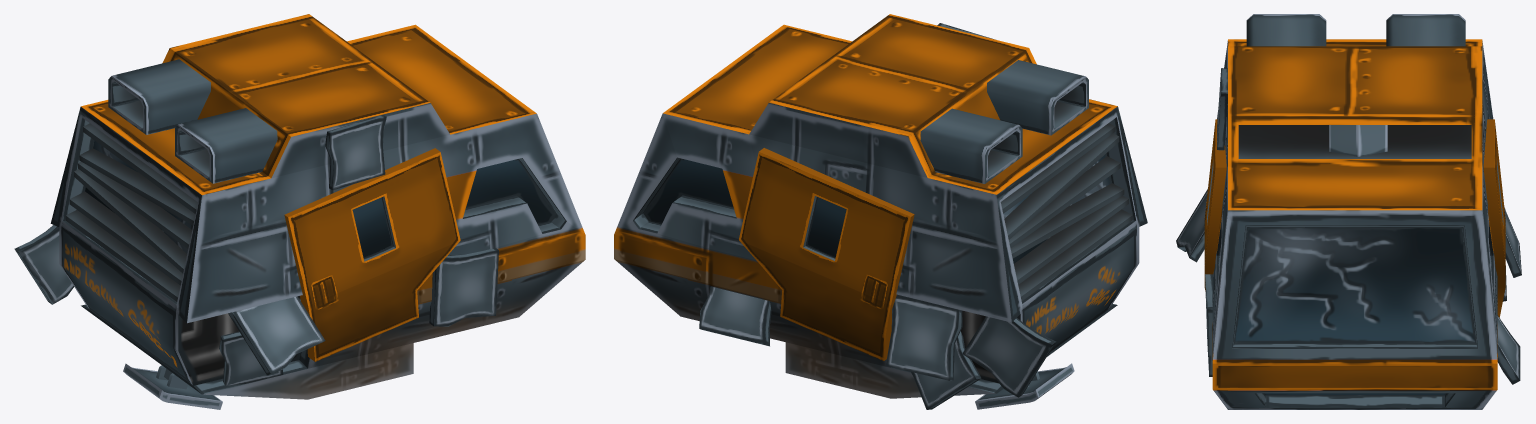
The model's file is ship_crash.FBX.
3 renders of one model, left to right at view 1: azimuth 30°, elevation 25°; view 2: azimuth 150°, elevation 25°; view 3: azimuth 270°, elevation 25°, orthographic. The views are drawn at different scales.
Parts seen in each view (by area): view 1: Box023; view 2: Box023; view 3: Box023.
Boxes of the visible parts, bbox=[...] form: Box023: bbox=[14, 14, 585, 409]; Box023: bbox=[614, 14, 1147, 409]; Box023: bbox=[1176, 14, 1521, 409].
Bounding box in the file's own units: 82.8 × 53.94 × 54.2.
